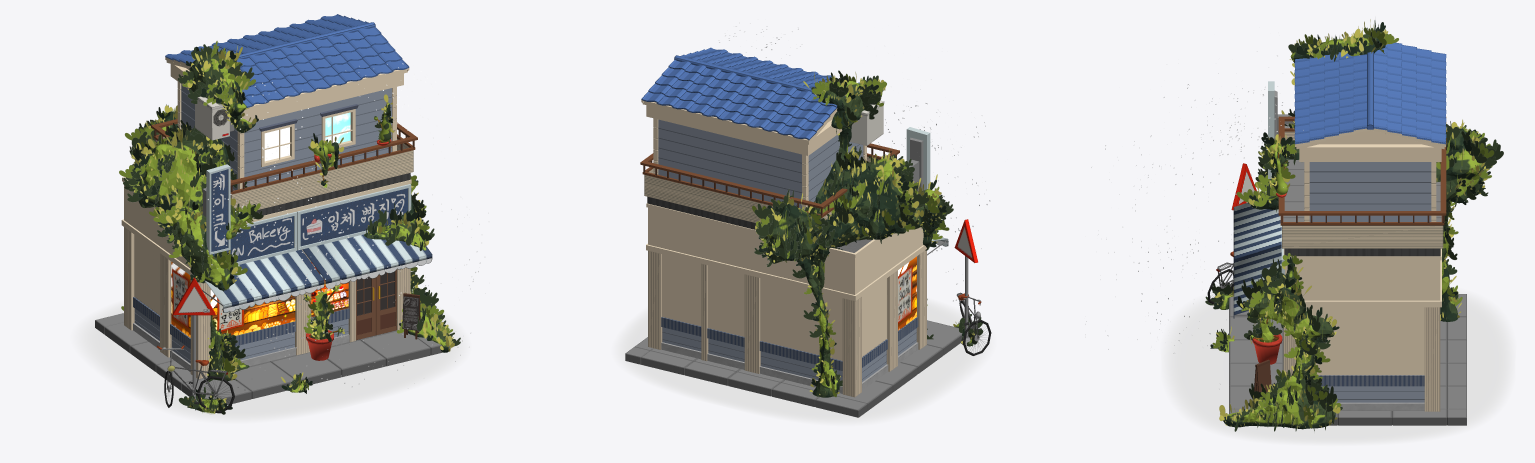
File: korean_bakery.glb
3 renders of one model, left to right at view 1: azimuth 30°, elevation 25°; view 2: azimuth 150°, elevation 25°; view 3: azimuth 270°, elevation 25°, orthographic. The views are drawn at different scales.
Visible parts, largest first — view 1: foilage_leafs_22, alpha_1, foilage_base_21, roof_planes_35, sidewalk_44, signs_18, bakery_body_17, bakery_tent_26, house_walls_41, bakery_extantions_25, balcony_wall_31, store_signs_34 (+15 smaller); view 2: bakery_body_17, foilage_leafs_22, roof_planes_35, alpha_1, foilage_base_21, bakery_extantions_25, middle_body_32, house_walls_41, sidewalk_44, bakery_wood_27, balcony_wall_31, house_body_38 (+9 smaller); view 3: alpha_1, foilage_leafs_22, roof_planes_35, foilage_base_21, bakery_body_17, sidewalk_44, house_walls_41, middle_body_32, balcony_wall_31, bakery_tent_26, bakery_extantions_25, house_body_38 (+12 smaller).
Part boxes in pixels (left/top/right/bottom): foilage_leafs_22: left=119, top=41, right=460, bottom=414; alpha_1: left=73, top=258, right=469, bottom=422; foilage_base_21: left=134, top=54, right=449, bottom=413; roof_planes_35: left=165, top=14, right=409, bottom=107; sidewalk_44: left=95, top=313, right=442, bottom=404; signs_18: left=211, top=112, right=419, bottom=330; bakery_body_17: left=133, top=235, right=349, bottom=371; bakery_tent_26: left=201, top=234, right=432, bottom=308; house_walls_41: left=181, top=84, right=391, bottom=190; bakery_extantions_25: left=121, top=219, right=410, bottom=378; balcony_wall_31: left=155, top=139, right=413, bottom=209; store_signs_34: left=202, top=164, right=411, bottom=264; bakery_body_17: left=661, top=254, right=918, bottom=393; foilage_leafs_22: left=752, top=70, right=983, bottom=397; roof_planes_35: left=641, top=47, right=859, bottom=140; alpha_1: left=614, top=240, right=993, bottom=425; foilage_base_21: left=764, top=81, right=973, bottom=397; bakery_extantions_25: left=646, top=243, right=926, bottom=397; middle_body_32: left=646, top=203, right=923, bottom=294; house_walls_41: left=658, top=119, right=863, bottom=208; sidewalk_44: left=625, top=320, right=962, bottom=417; bakery_wood_27: left=662, top=327, right=916, bottom=381; balcony_wall_31: left=644, top=174, right=831, bottom=222; house_body_38: left=646, top=105, right=842, bottom=155; alpha_1: left=1161, top=287, right=1515, bottom=445; foilage_leafs_22: left=1205, top=19, right=1503, bottom=431; roof_planes_35: left=1294, top=42, right=1446, bottom=144; foilage_base_21: left=1218, top=34, right=1484, bottom=429; bakery_body_17: left=1306, top=307, right=1424, bottom=410; sidewalk_44: left=1229, top=159, right=1466, bottom=425; house_walls_41: left=1309, top=162, right=1431, bottom=221; middle_body_32: left=1283, top=248, right=1441, bottom=300; balcony_wall_31: left=1282, top=225, right=1443, bottom=248; bakery_tent_26: left=1233, top=202, right=1281, bottom=318; bakery_extantions_25: left=1283, top=249, right=1441, bottom=411; house_body_38: left=1299, top=144, right=1441, bottom=161.
Size of the model in its own units: 5.35 by 4.6 by 5.62.
5 materials, 5 textured.
